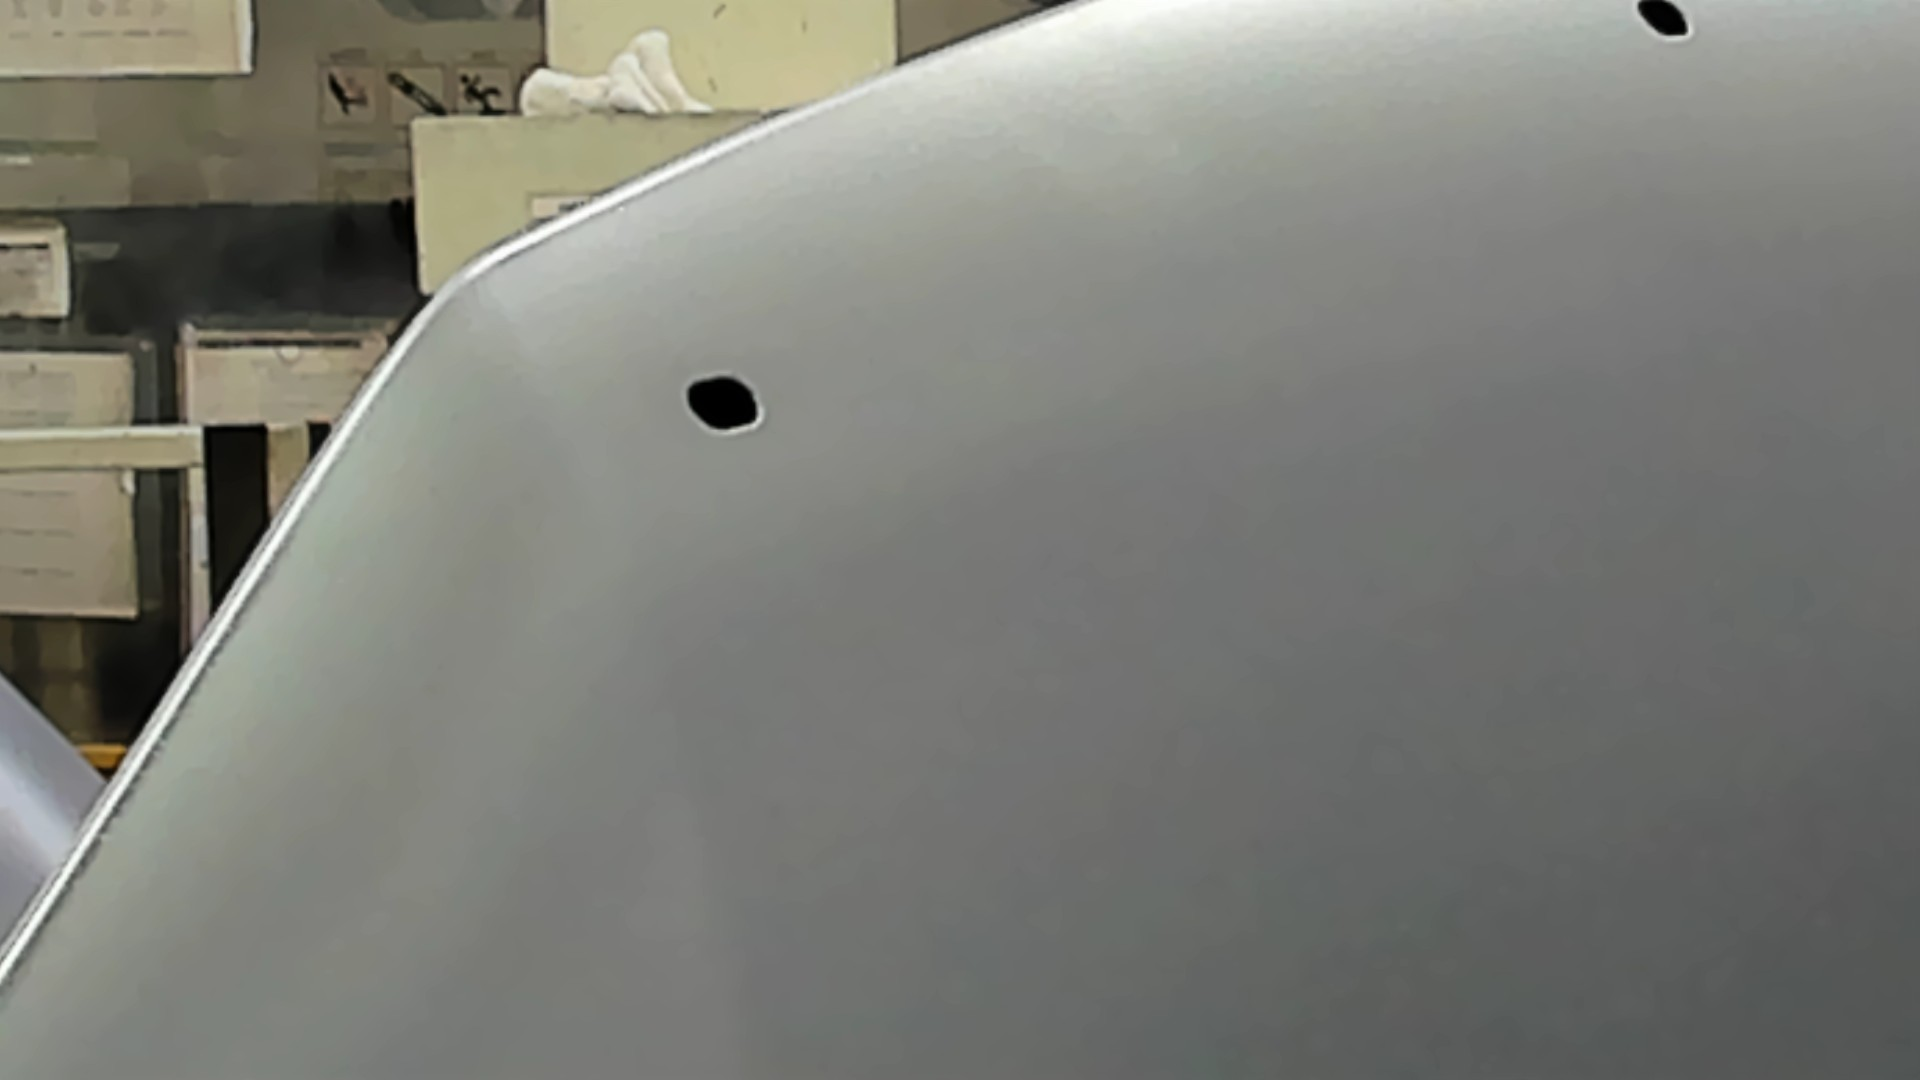amorfo: (675, 364, 778, 444), (1636, 1, 1697, 44)
